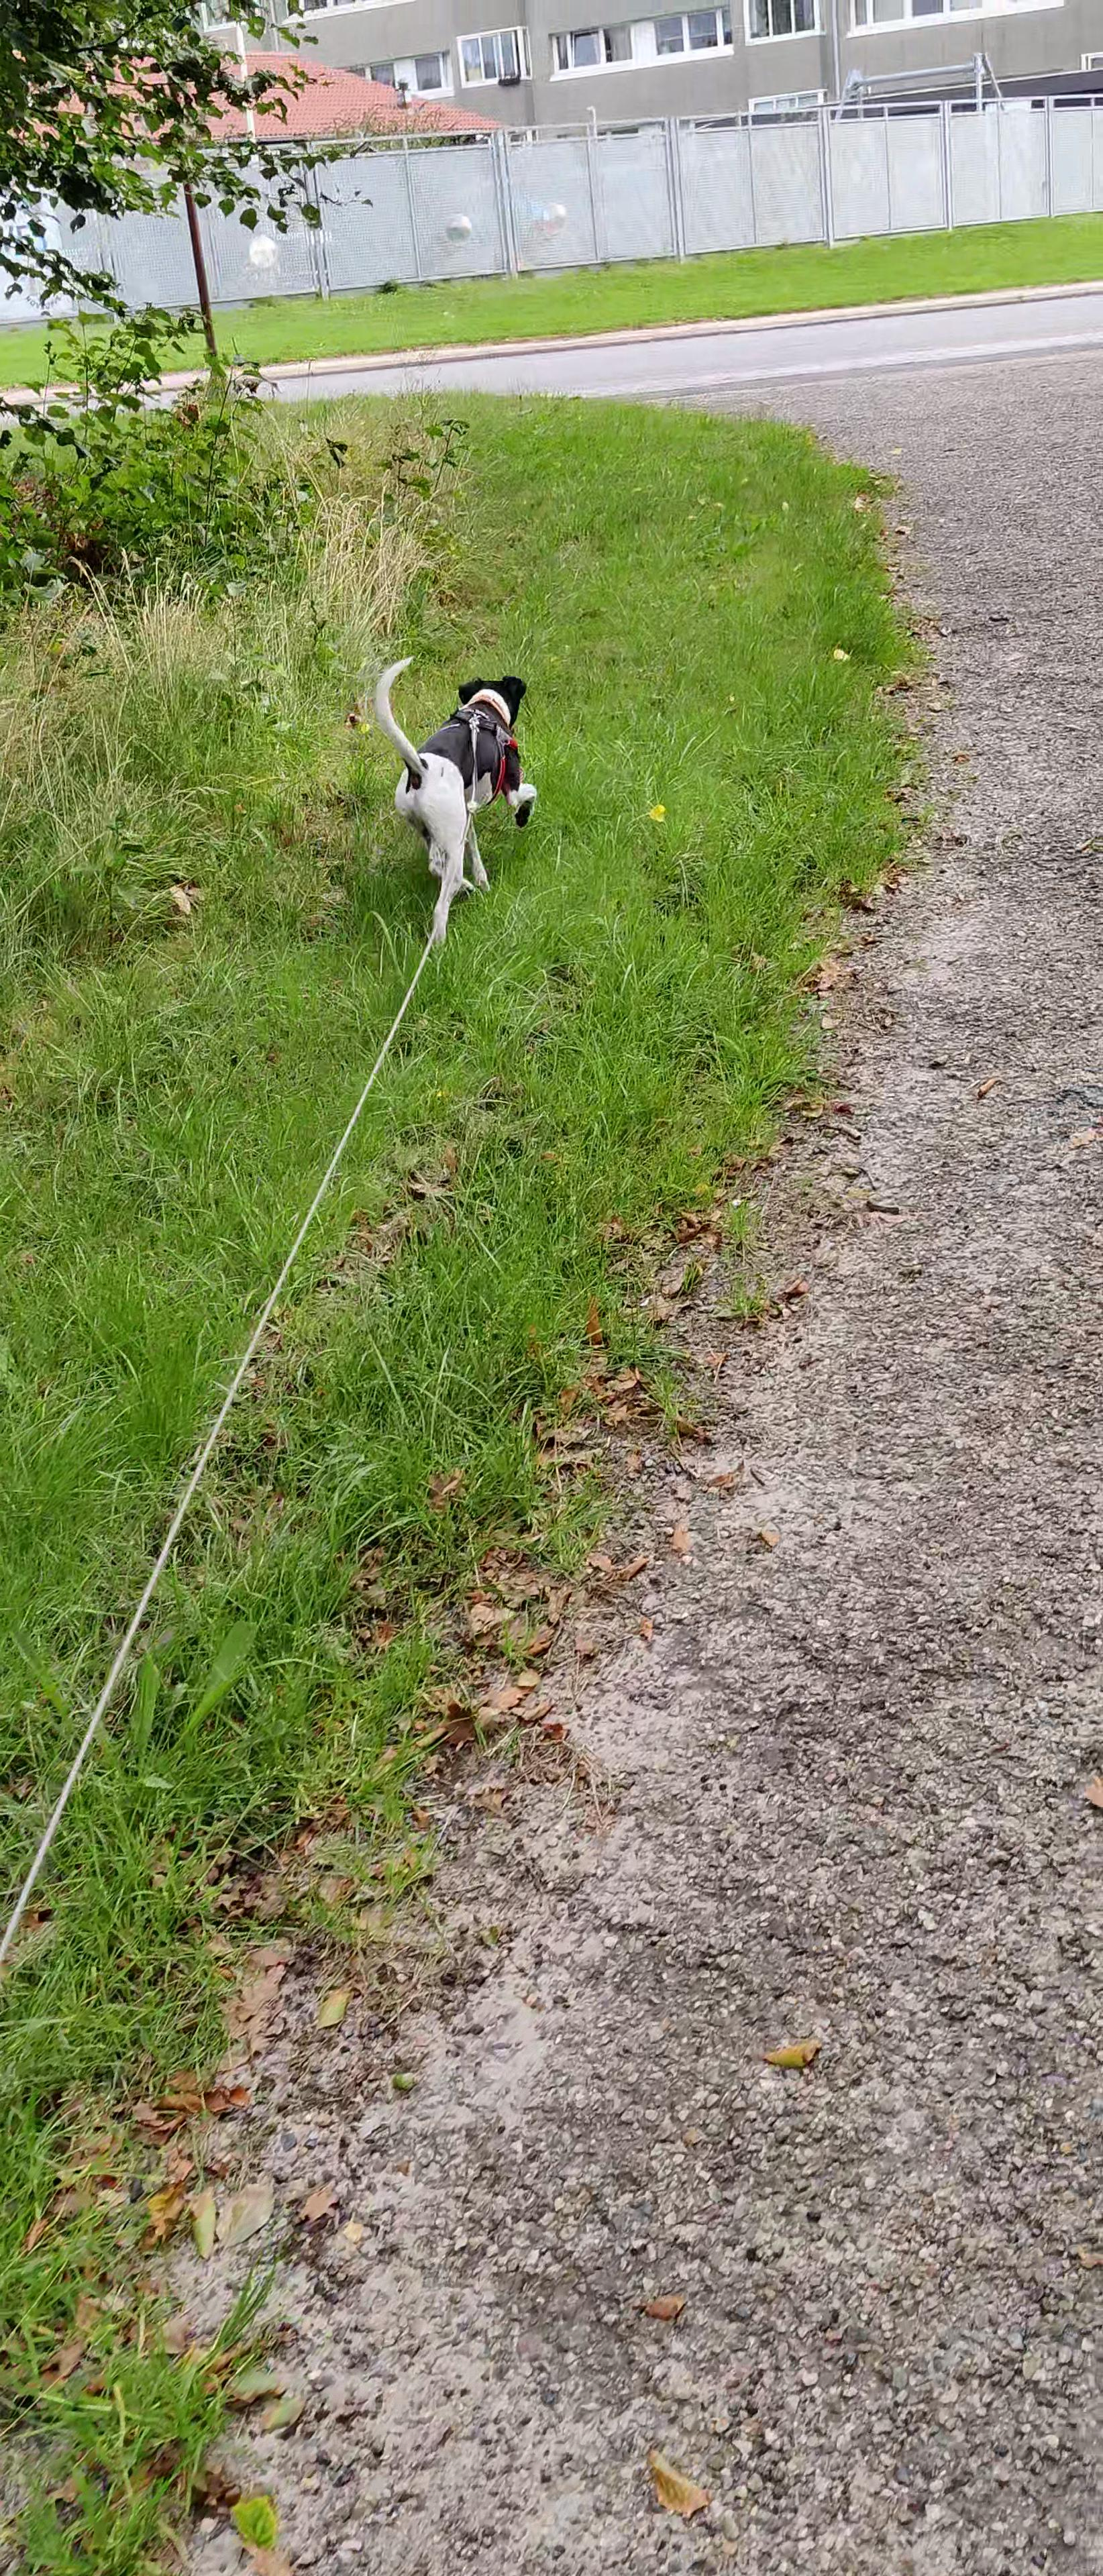Dog: (368, 644, 557, 953)
